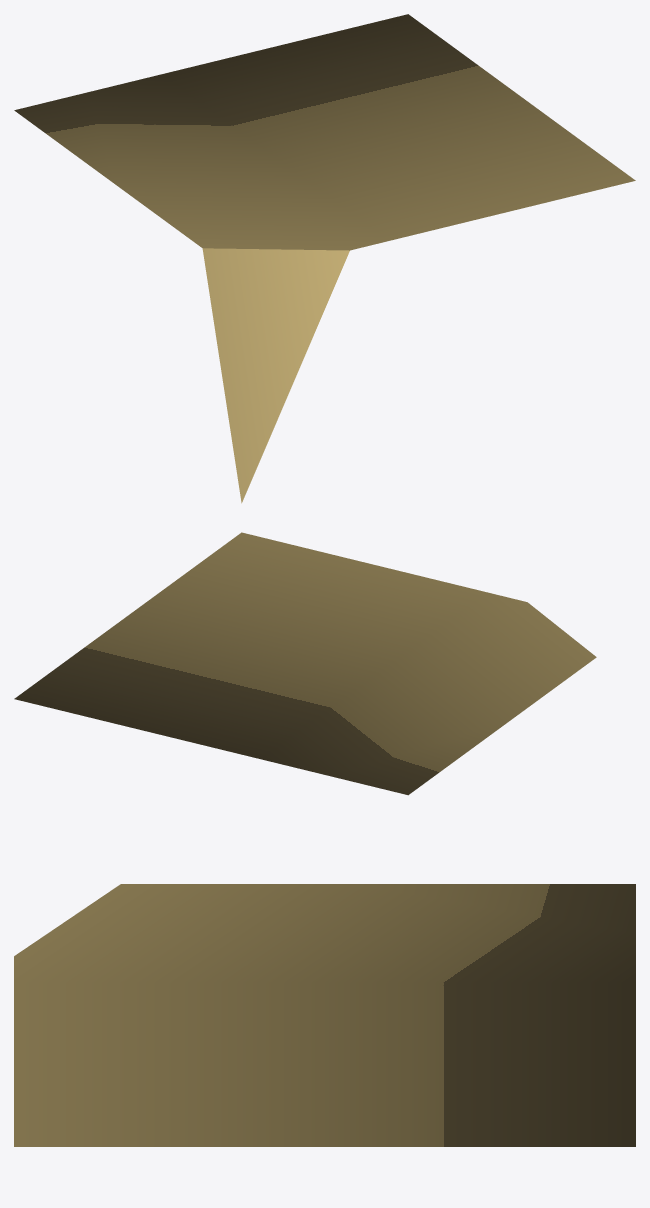
3 renders of one model, top to bottom at view 1: azimuth 30°, elevation 25°; view 2: azimuth 150°, elevation 25°; view 3: azimuth 270°, elevation 25°, orthographic. The views are drawn at different scales.
Size of the model in its own units: 1 by 0.5499 by 1.
Materials: 2 (2 with a texture image).
